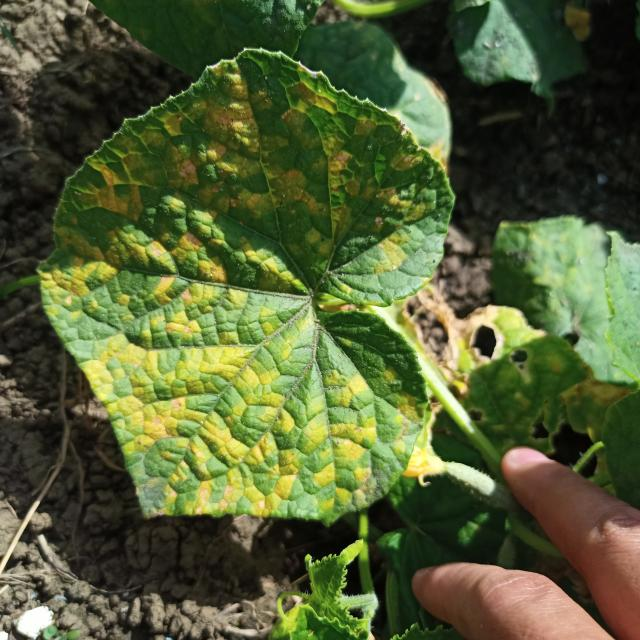disease_cucumber: (48, 61, 438, 516)
